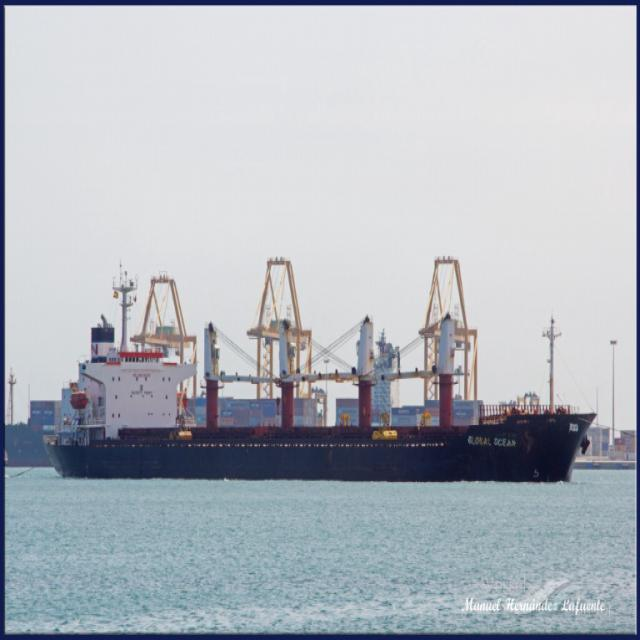OCR: (460, 426, 521, 456)
